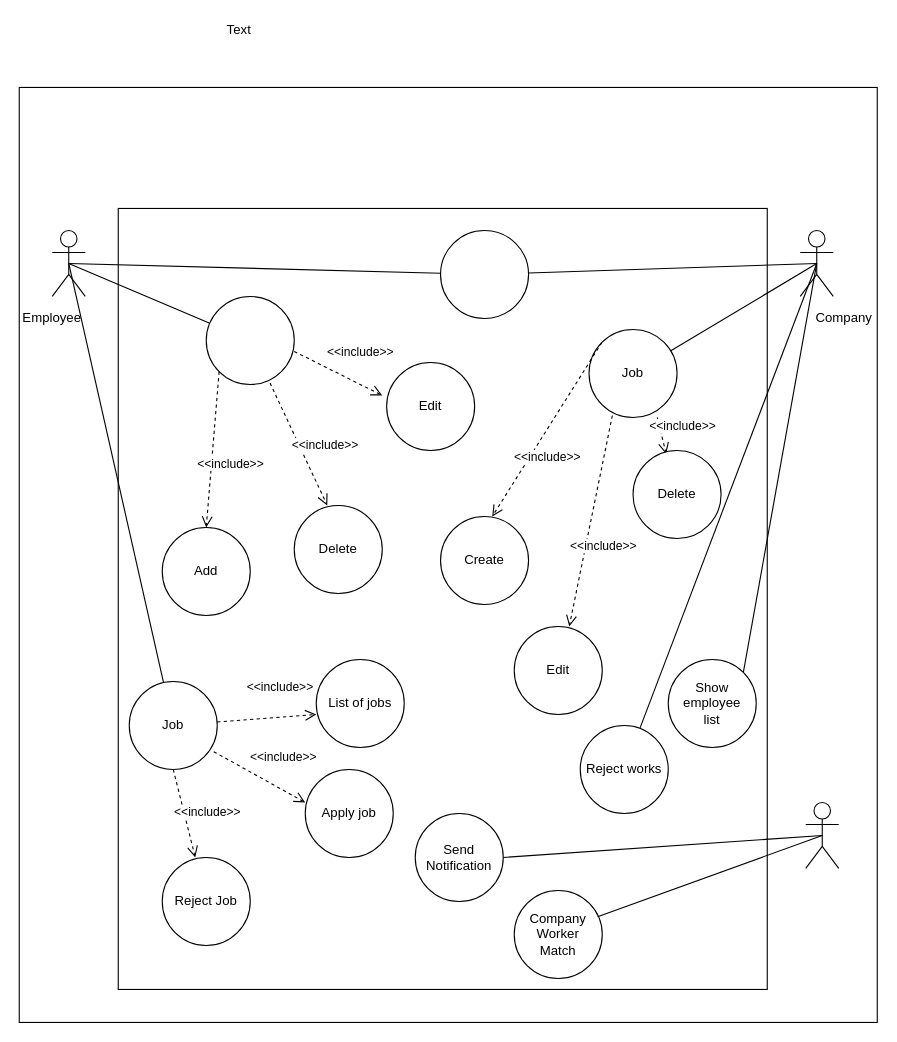
Some shapes in this 897 by 1042 pixel diagram are drawn without their labels. The shapes that lost their labels are listed below. From the top down, each one's box as (x1, y1, x2, y2) in pixels, then its label:
(439, 229, 529, 318): Vote
(205, 295, 294, 384): Criteria
(805, 801, 839, 868): System
